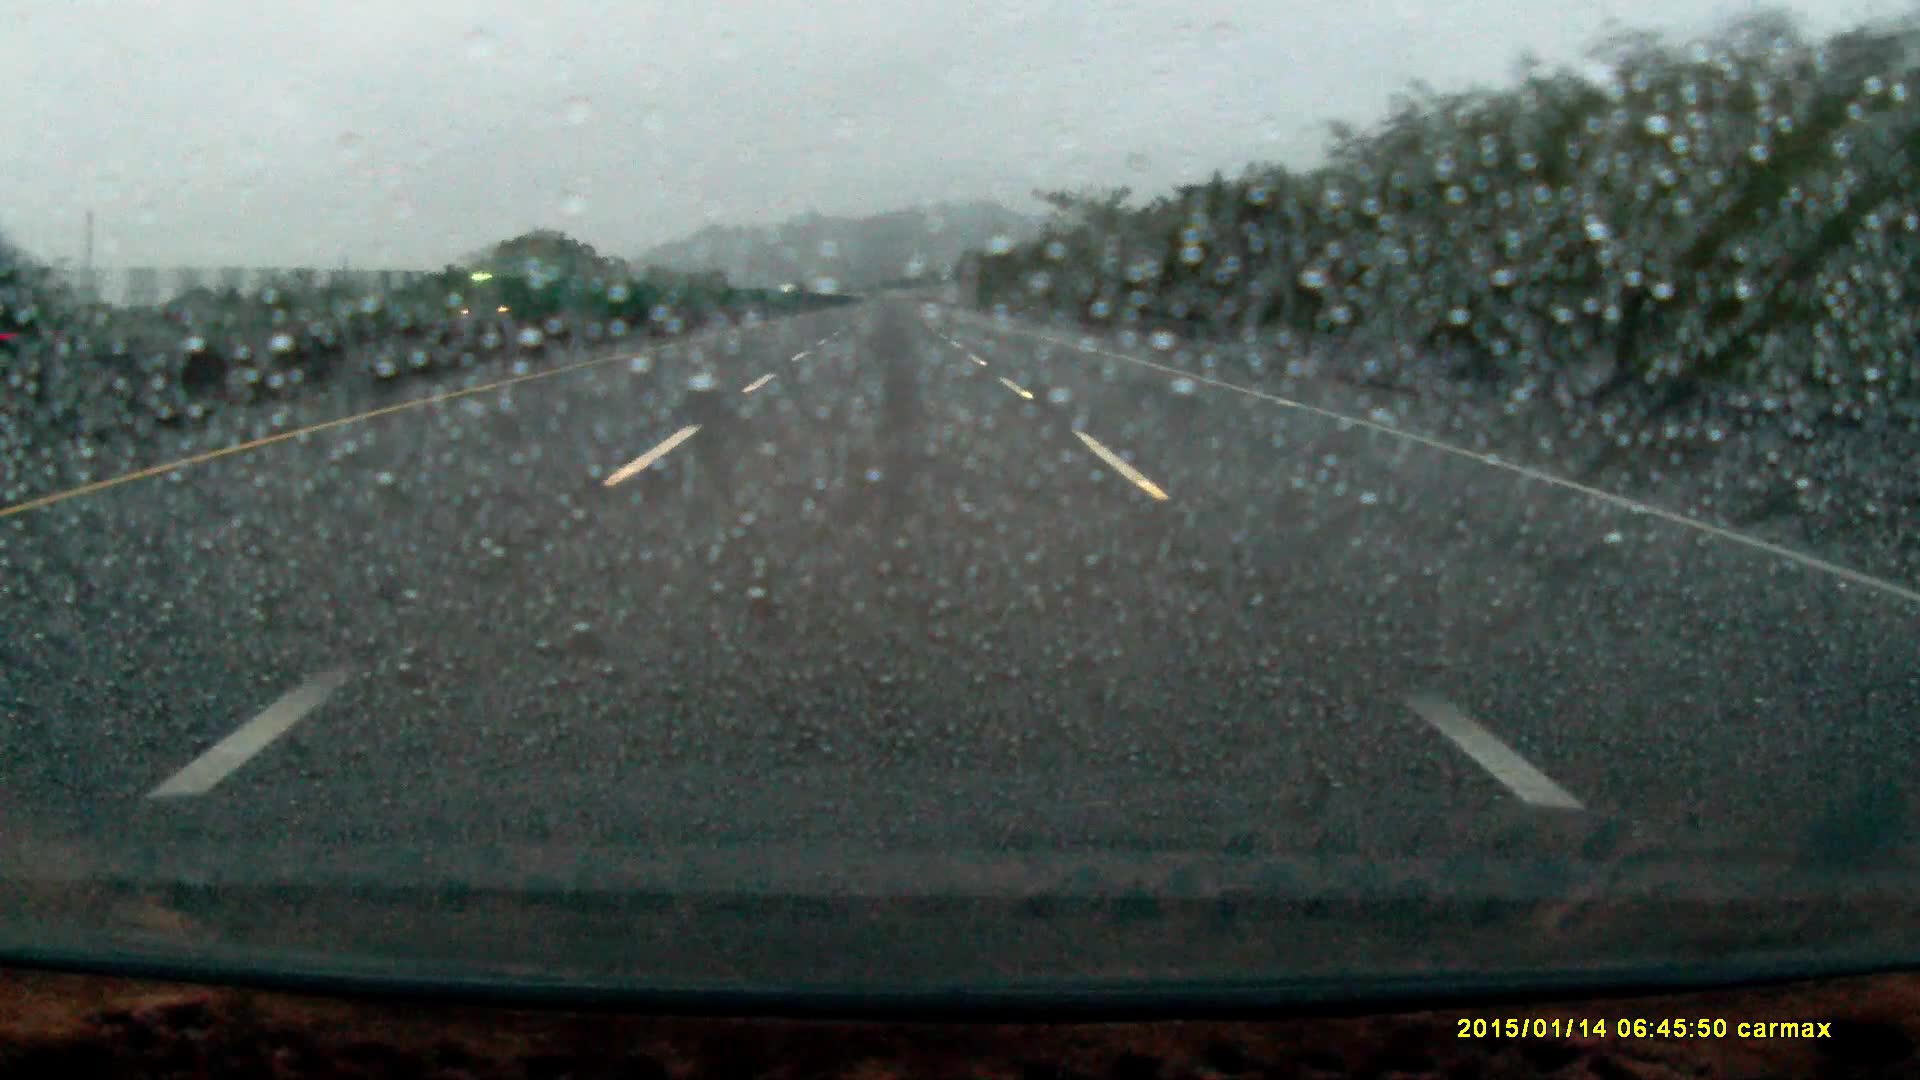vehicle: (452, 260, 574, 335)
